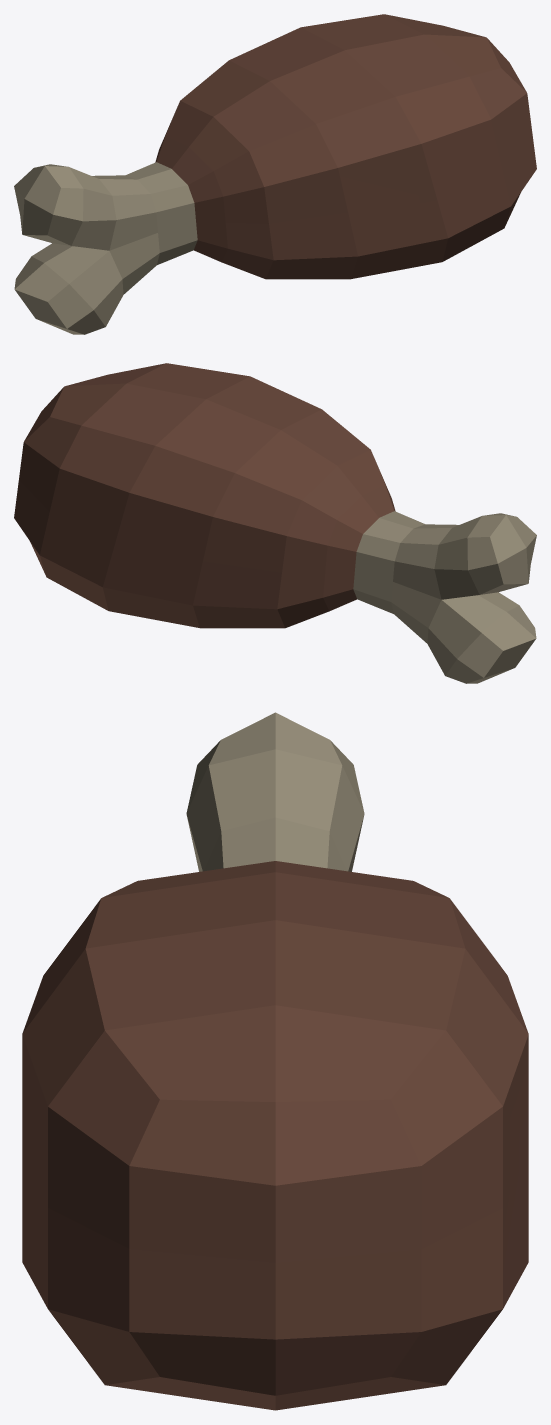
Rendered from ingredient_chickenleg.glb.
3 renders of one model, top to bottom at view 1: azimuth 30°, elevation 25°; view 2: azimuth 150°, elevation 25°; view 3: azimuth 270°, elevation 25°, orthographic. The views are drawn at different scales.
Visible parts, largest first — view 1: ChickenLeg_Cube.048; view 2: ChickenLeg_Cube.048; view 3: ChickenLeg_Cube.048.
Part boxes in pixels (left/top/right/bottom): ChickenLeg_Cube.048: left=14, top=14, right=536, bottom=334; ChickenLeg_Cube.048: left=14, top=363, right=536, bottom=683; ChickenLeg_Cube.048: left=22, top=712, right=528, bottom=1410.
Size of the model in its own units: 1.4 by 0.5815 by 0.612.
